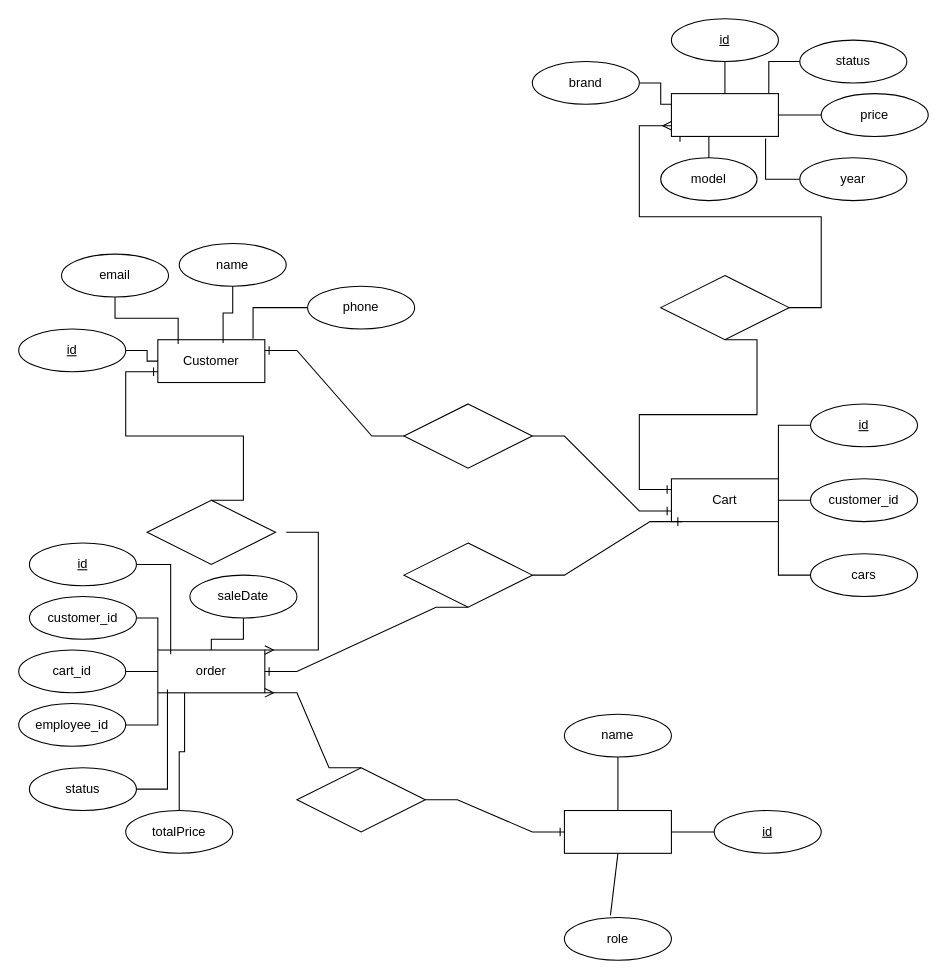
The diagram is 947 pixels wide and 979 high, and some of its shapes have lost their labels. The shapes that lost their labels are listed below. From the top down, each one's centre as x and y in pixels, then its label:
the point at 724,114: Car
the point at 724,307: Contain
the point at 467,435: Has
the point at 211,531: Places
the point at 467,574: Associated with
the point at 360,799: Processes
the point at 617,831: employee
